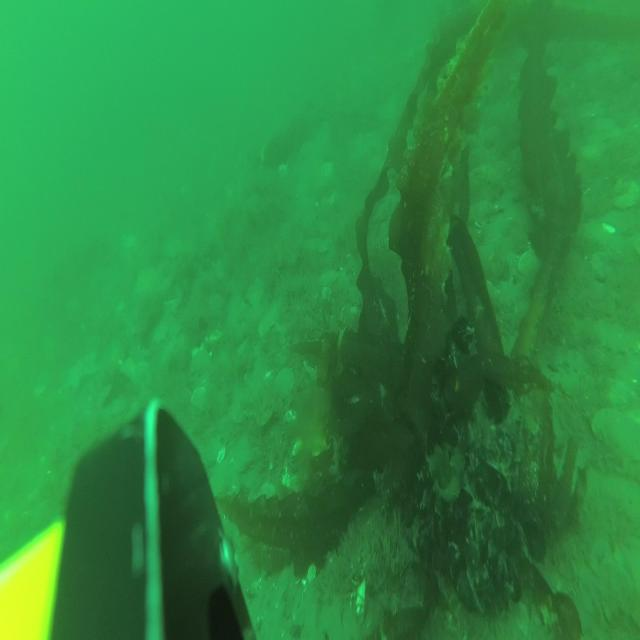scallop: (591, 403, 640, 471), (518, 245, 542, 280), (584, 217, 608, 250), (273, 368, 295, 403), (317, 266, 339, 288)
